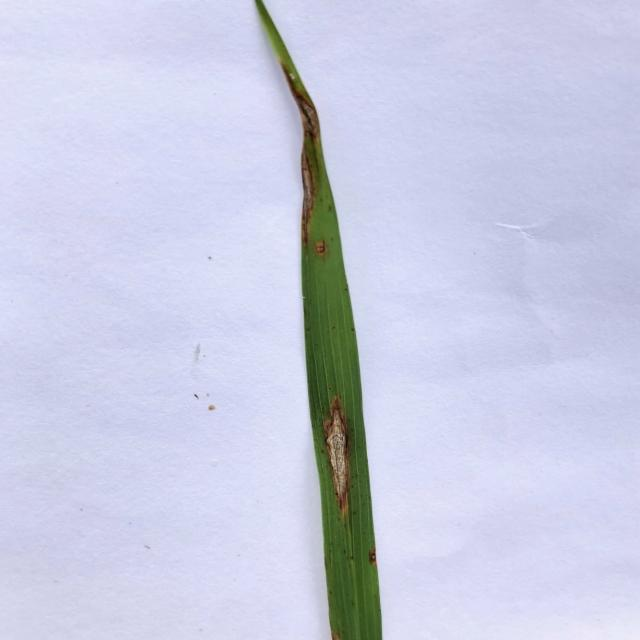leaf blast: (322, 396, 354, 522), (298, 154, 316, 247), (294, 89, 316, 147), (368, 551, 377, 566), (330, 636, 352, 640)
